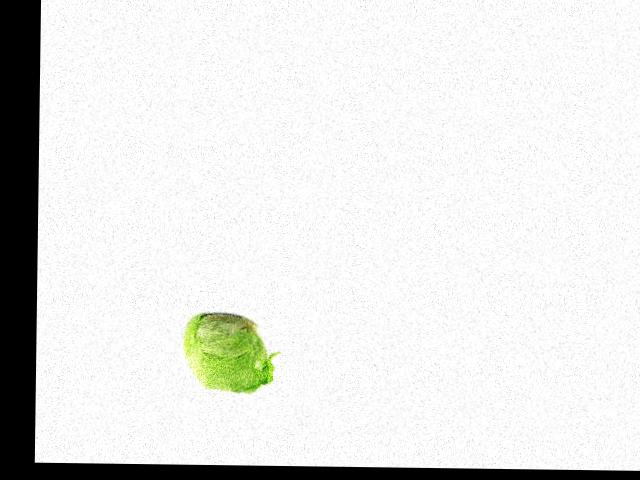lettuce: (179, 309, 271, 397)
